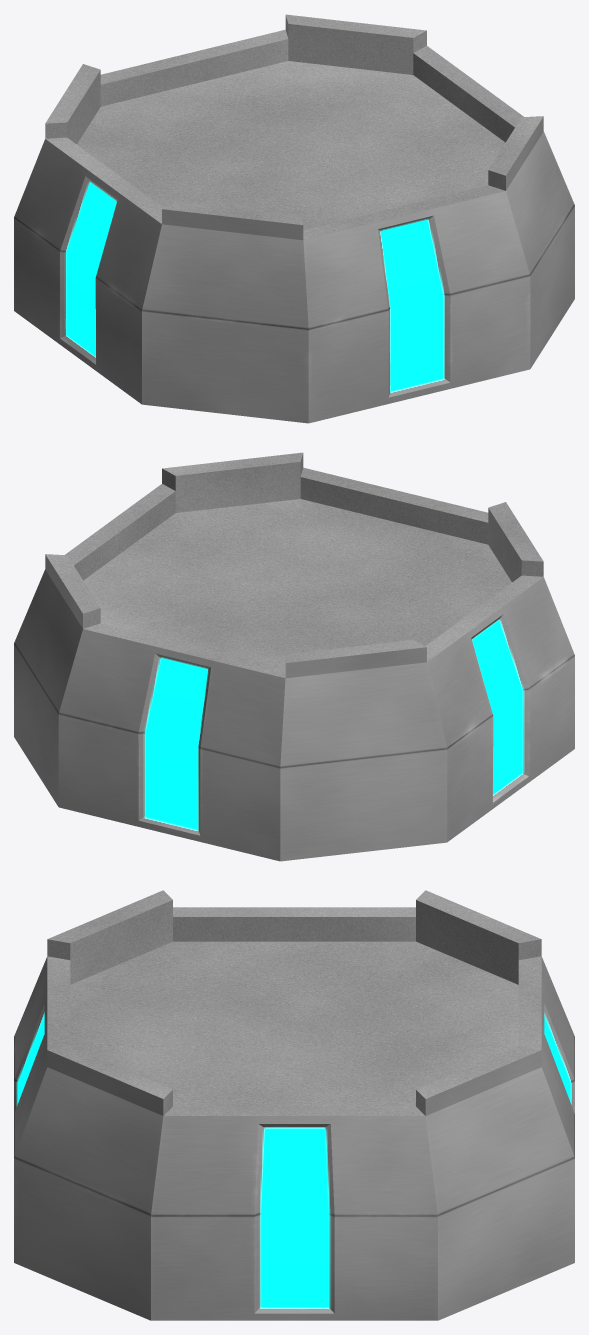
File: Platform_Core.fbx
The picture shows the model from 3 angles, top to bottom: view 1: azimuth 30°, elevation 25°; view 2: azimuth 150°, elevation 25°; view 3: azimuth 270°, elevation 25°; orthographic projection. The views are drawn at different scales.
Parts seen in each view (by area): view 1: Platform_Core; view 2: Platform_Core; view 3: Platform_Core.
Boxes of the visible parts, <box> form: Platform_Core: <box>14,14,574,423</box>; Platform_Core: <box>14,452,574,861</box>; Platform_Core: <box>14,890,574,1320</box>.
Bounding box in the file's own units: 1310 × 535 × 1310.
Materials: 1 (1 with a texture image).
